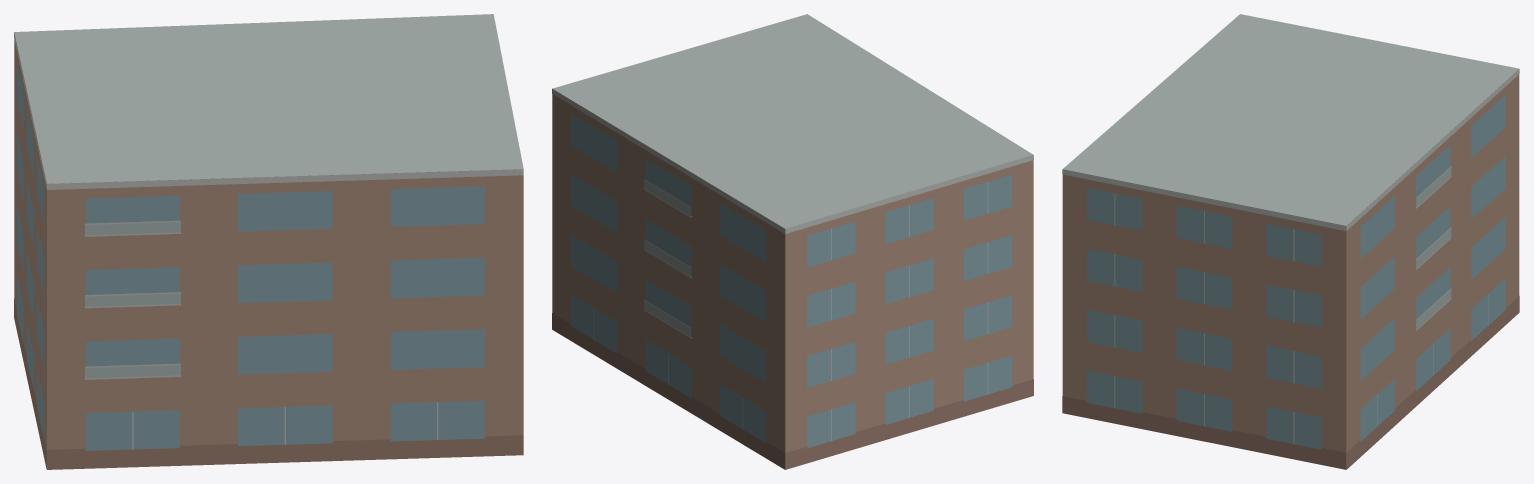
The model's file is survey-upis-32844473.glb.
The picture shows the model from 3 angles, left to right: view 1: azimuth 30°, elevation 25°; view 2: azimuth 150°, elevation 25°; view 3: azimuth 270°, elevation 25°; orthographic projection. The views are drawn at different scales.
Visible parts, largest first — view 1: survey-upis-32844473.tmp; view 2: survey-upis-32844473.tmp; view 3: survey-upis-32844473.tmp.
Part boxes in pixels (x1,y1,x2,y2): survey-upis-32844473.tmp: [14, 14, 523, 469]; survey-upis-32844473.tmp: [552, 14, 1033, 469]; survey-upis-32844473.tmp: [1062, 14, 1519, 469].
Size of the model in its own units: 21.06 by 11.3 by 19.19.
